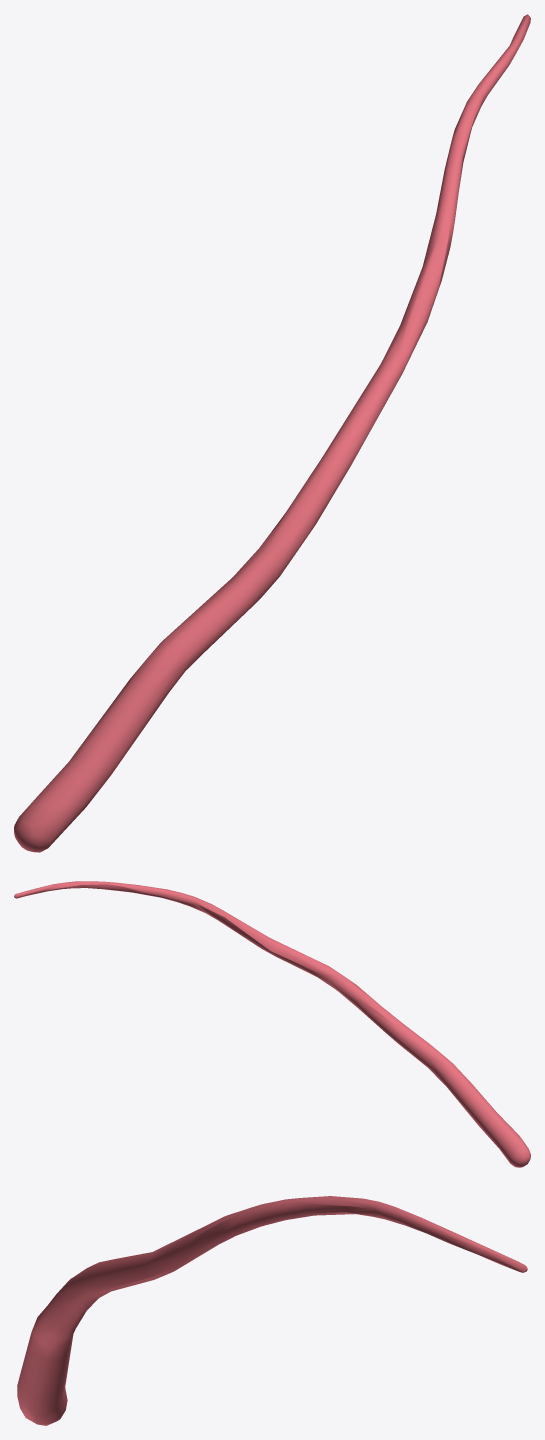
Rendered from fma70452_fj3091.glb.
3 renders of one model, top to bottom at view 1: azimuth 30°, elevation 25°; view 2: azimuth 150°, elevation 25°; view 3: azimuth 270°, elevation 25°, orthographic. The views are drawn at different scales.
Visible parts, largest first — view 1: FMA70452_FJ3091; view 2: FMA70452_FJ3091; view 3: FMA70452_FJ3091.
Boxes of the visible parts, x1,y1,x2,y2 form: FMA70452_FJ3091: (14, 14, 530, 852); FMA70452_FJ3091: (14, 881, 530, 1167); FMA70452_FJ3091: (17, 1196, 527, 1425).
Size of the model in its own units: 0.0553 by 0.0362 by 0.031.
